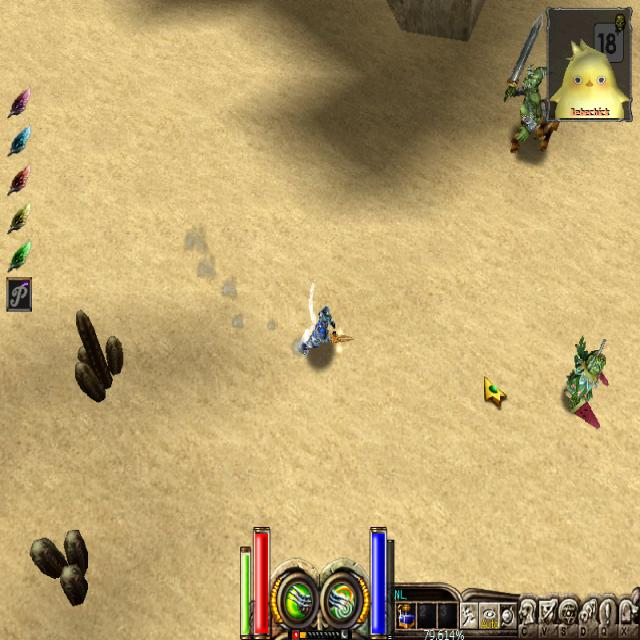monster: (560, 344, 606, 426), (515, 60, 551, 146)
